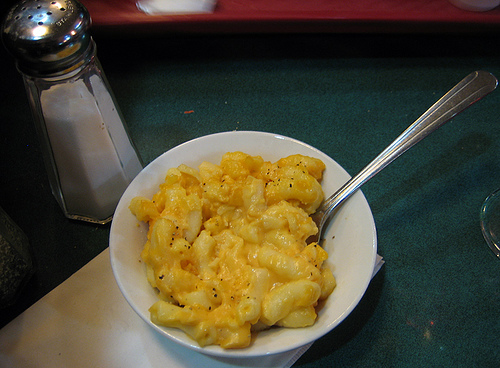macncheese: (136, 148, 336, 350)
